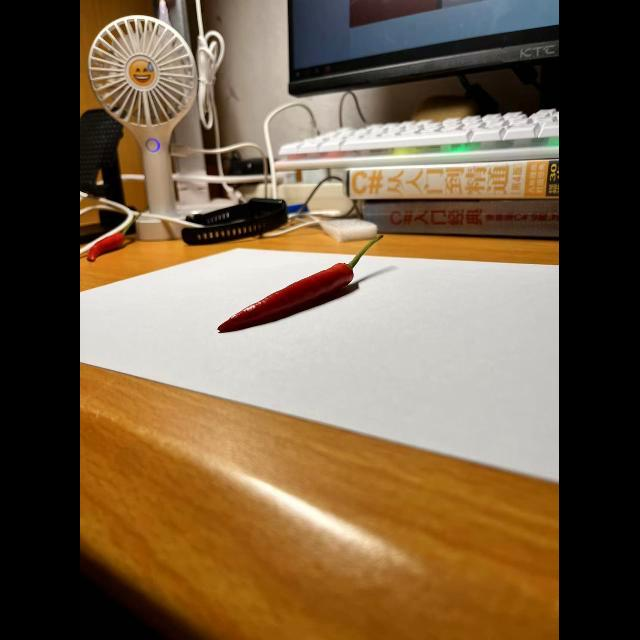chili_pepper: (202, 258, 384, 332)
